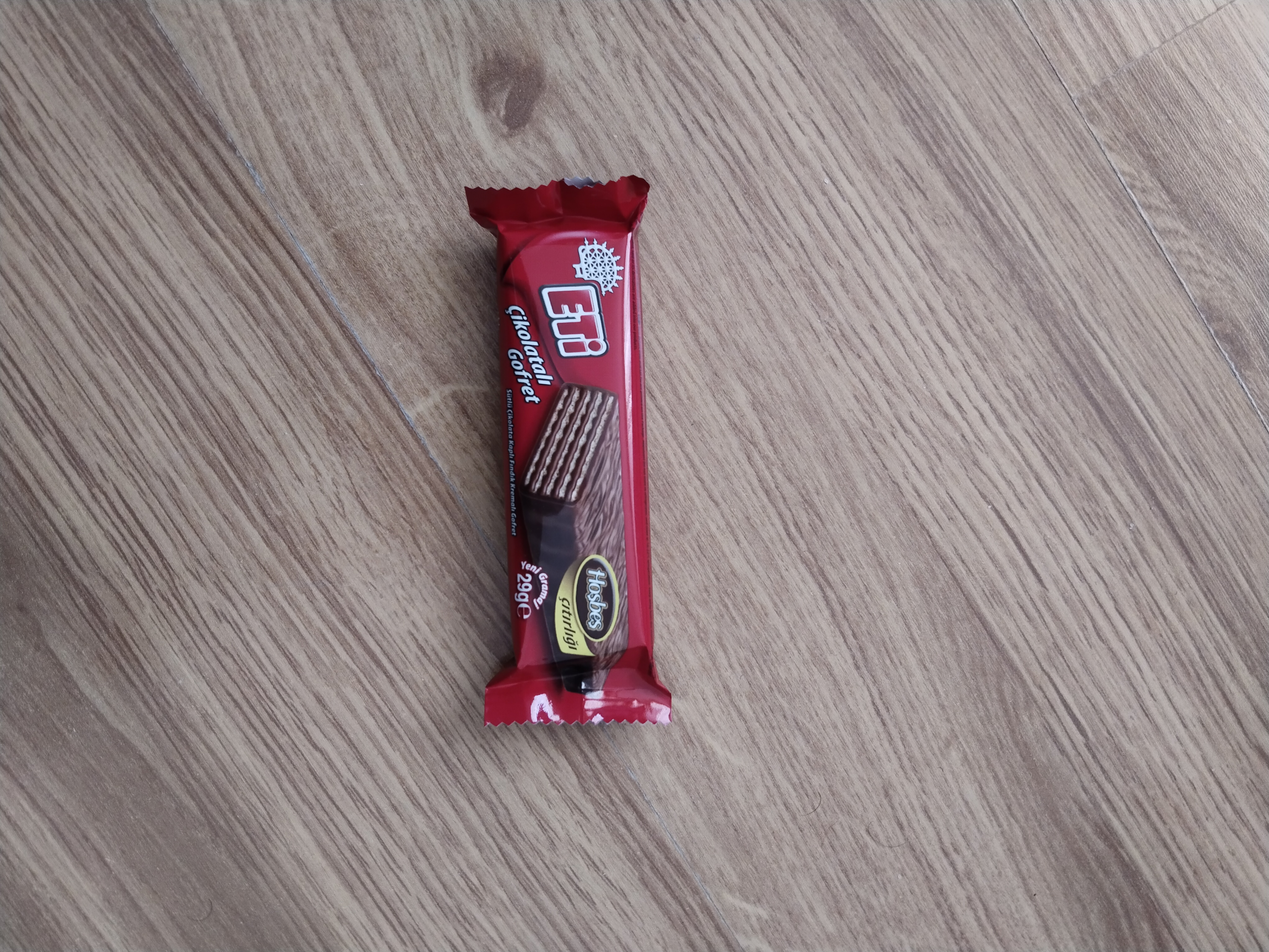eti_hosbes_gofret: (463, 179, 676, 729)
